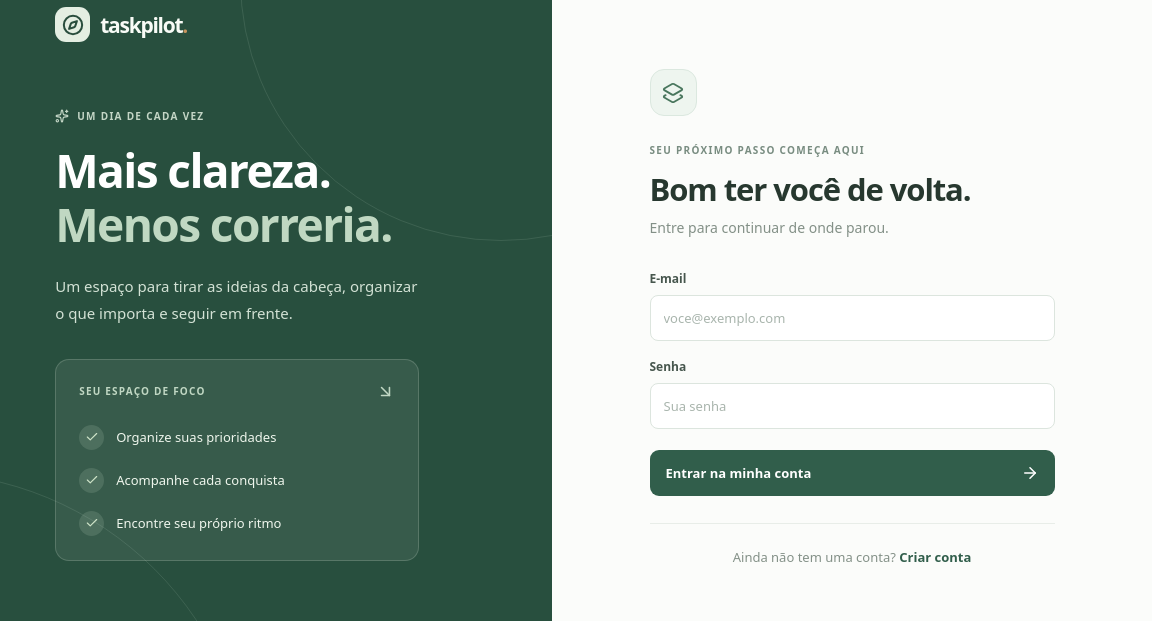
Test: TaskPilot › mantém a tarefa e informa erro quando a exclusão falha
Type "person@example.test" into the field labelled "E-mail".
click(852, 318); type("person@example.test")  # box [650,295,1054,341]
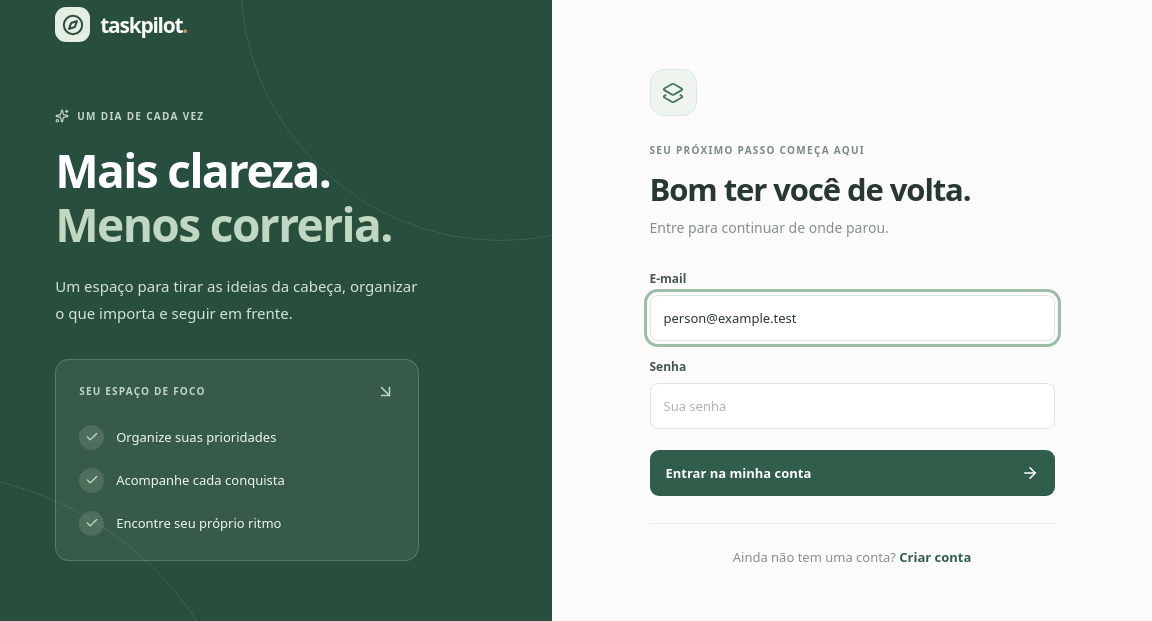
Type "TestPassword_12345" into the password field labelled "Senha".
click(852, 406); type("TestPassword_12345")  # box [650,383,1054,429]
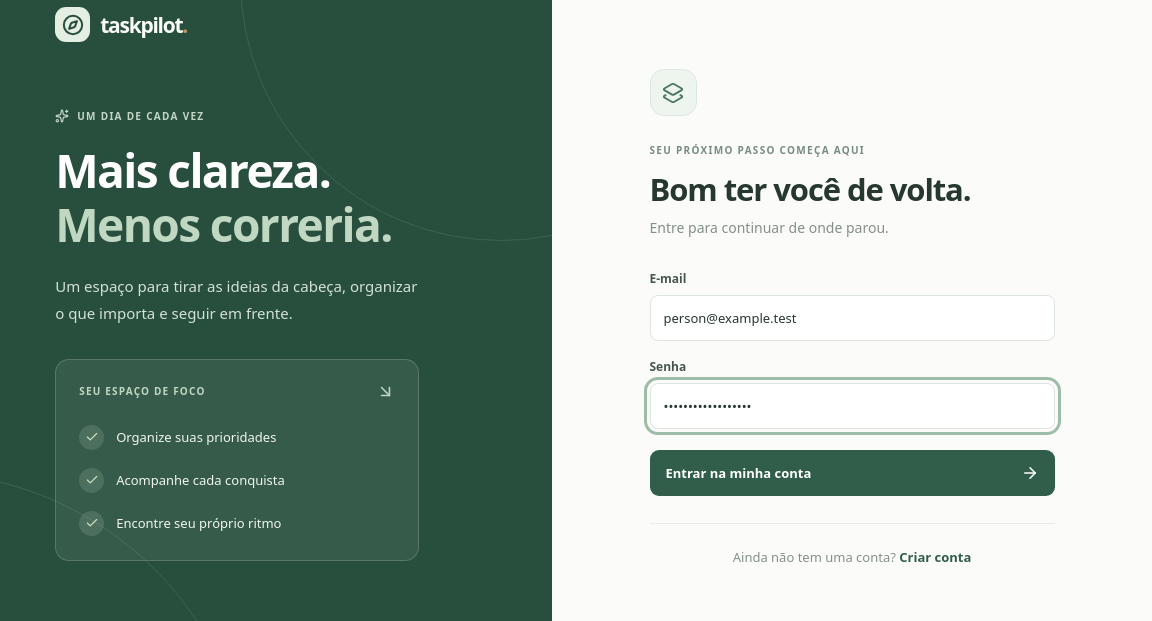
Click the button "Entrar na minha conta".
click(738, 473)  # box [650,450,1054,496]
(page scrolled)
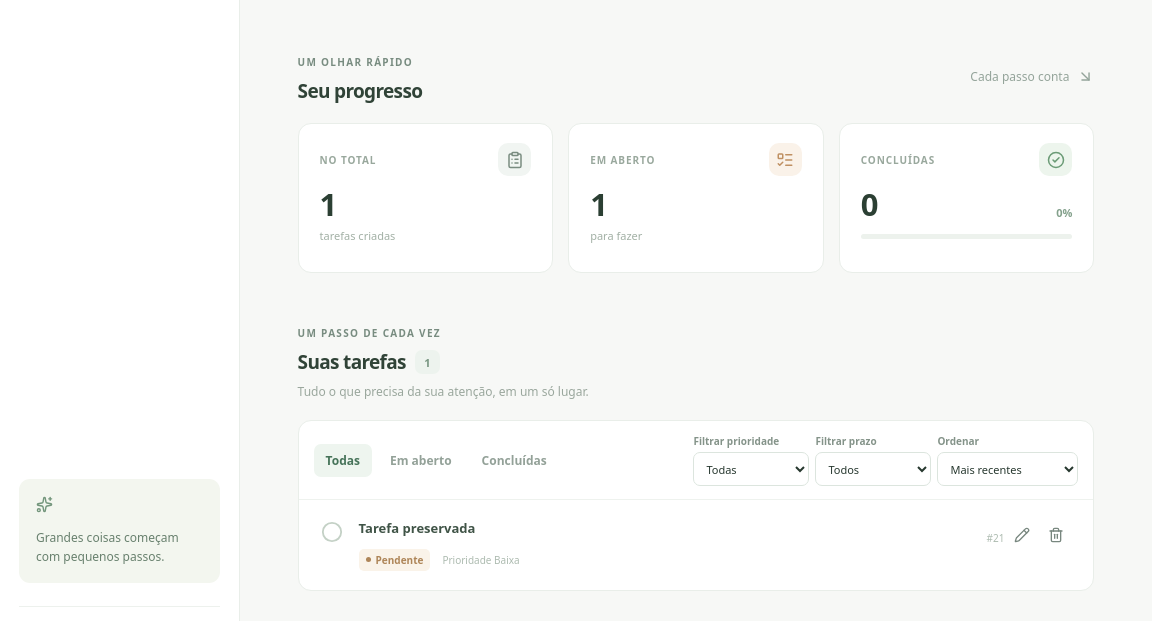
Click the button named "Excluir Tarefa preservada".
click(1056, 536)  # box [1040,520,1072,552]
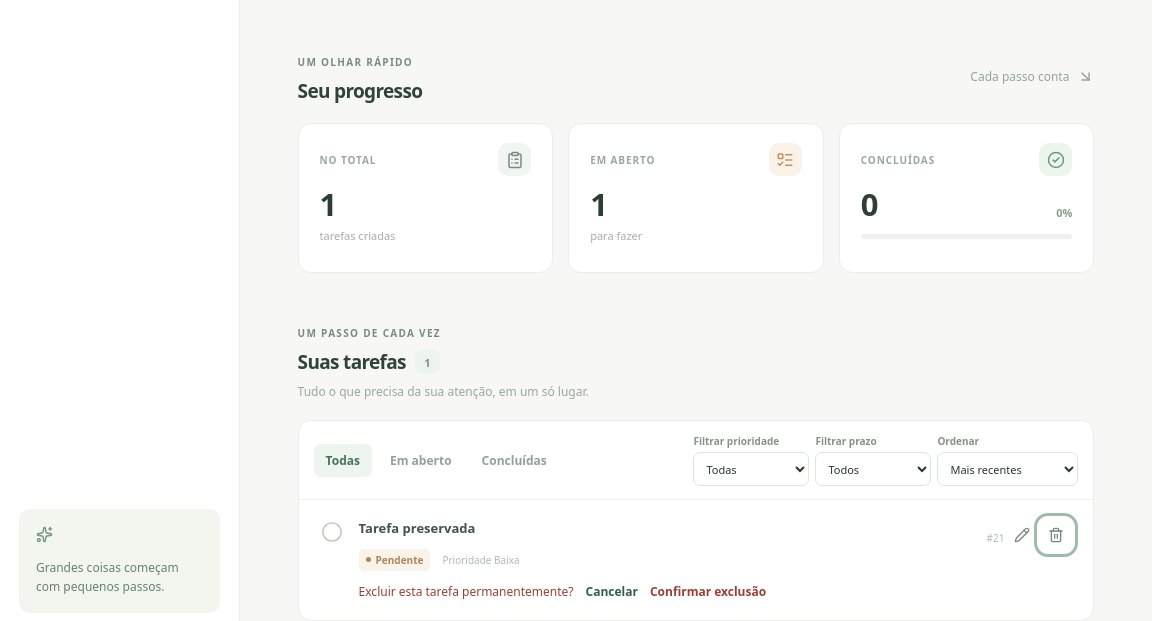
Click the button "Confirmar exclusão".
click(708, 592)  # box [650,584,766,600]
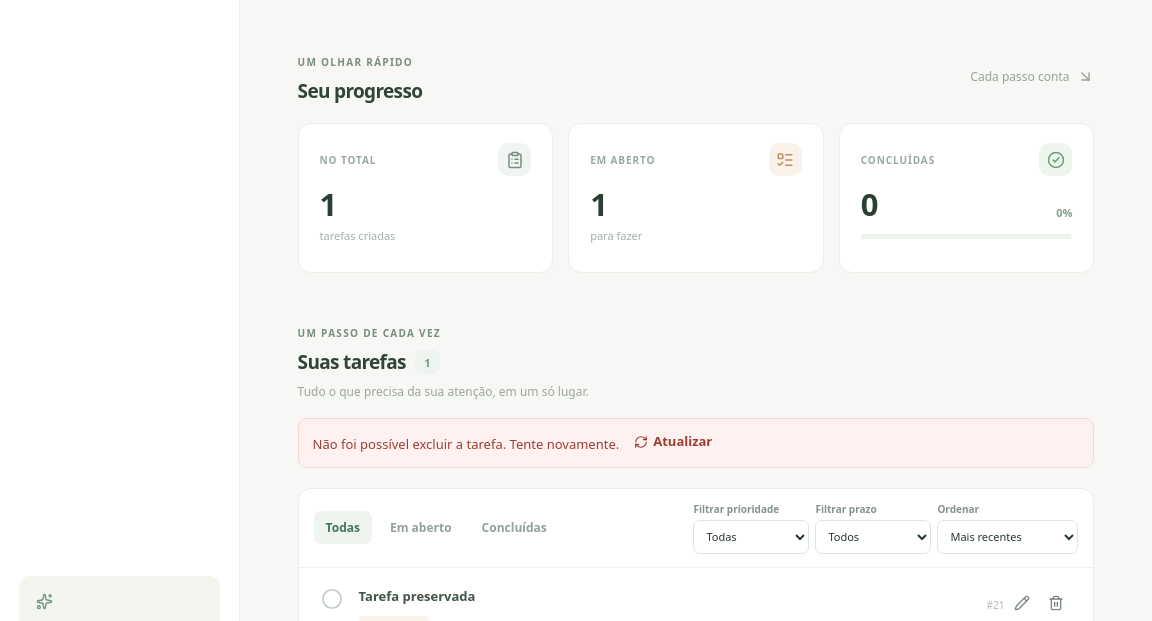
Expected: the heading "Tarefa preservada" is shown, [359,587,476,605]
Expected: the message shows "Não foi possível excluir", [313,435,619,453]
